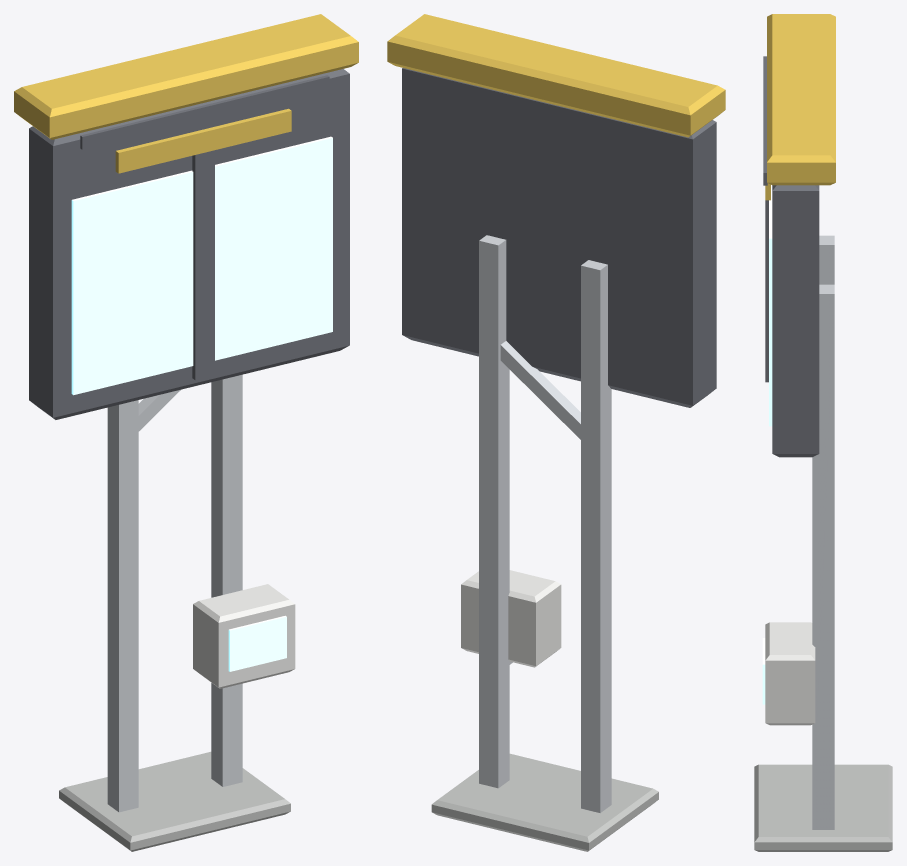
Rendered from airport-terminal-and-ground-operations-stand-guidance--4a054cb5__26086.glb.
The picture shows the model from 3 angles, left to right: view 1: azimuth 30°, elevation 25°; view 2: azimuth 150°, elevation 25°; view 3: azimuth 270°, elevation 25°; orthographic projection. The views are drawn at different scales.
Visible parts, largest first — view 1: stand-guidance-display; view 2: stand-guidance-display; view 3: stand-guidance-display.
Part boxes in pixels (<box>): stand-guidance-display: <box>14,14,358,851</box>; stand-guidance-display: <box>387,14,725,851</box>; stand-guidance-display: <box>754,14,892,851</box>.
Bounding box in the file's own units: 2.5 × 5.84 × 1.
